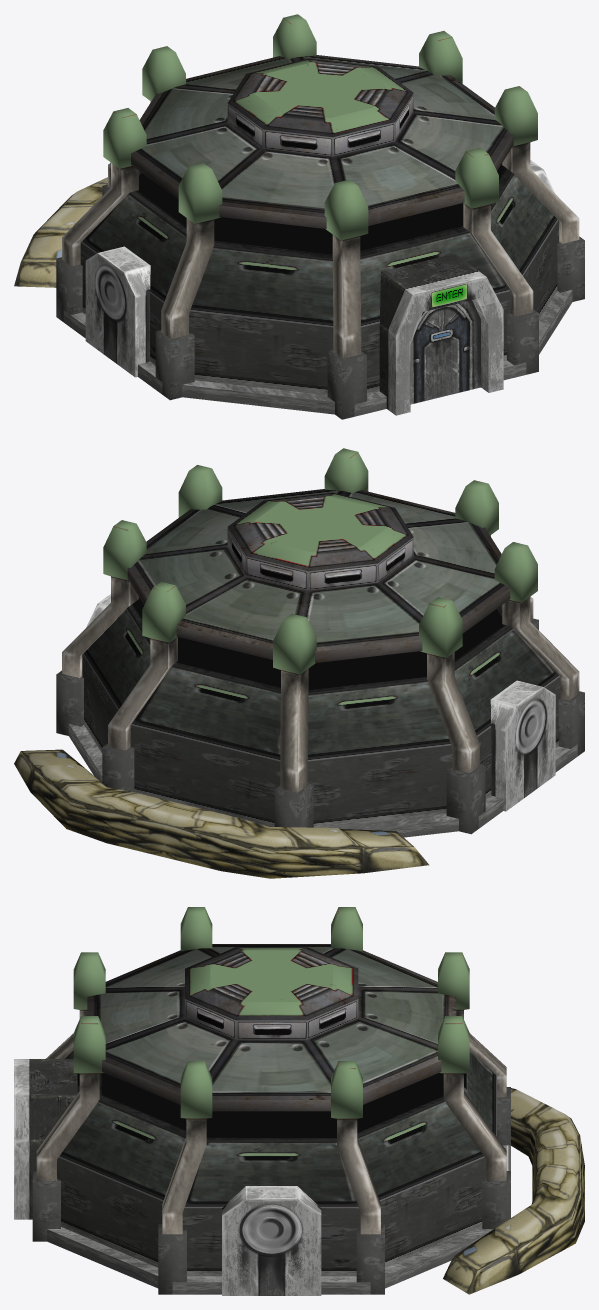
Rendered from doodad_bunker.fbx.
The picture shows the model from 3 angles, top to bottom: view 1: azimuth 30°, elevation 25°; view 2: azimuth 150°, elevation 25°; view 3: azimuth 270°, elevation 25°; orthographic projection.
Parts seen in each view (by area): view 1: polySurface5; view 2: polySurface5; view 3: polySurface5.
Part boxes in pixels (<box>): polySurface5: <box>14,14,584,419</box>; polySurface5: <box>14,448,584,878</box>; polySurface5: <box>14,907,584,1295</box>.
Size of the model in its own units: 3.2 by 1.59 by 3.77.
Materials: 1 (1 with a texture image).
